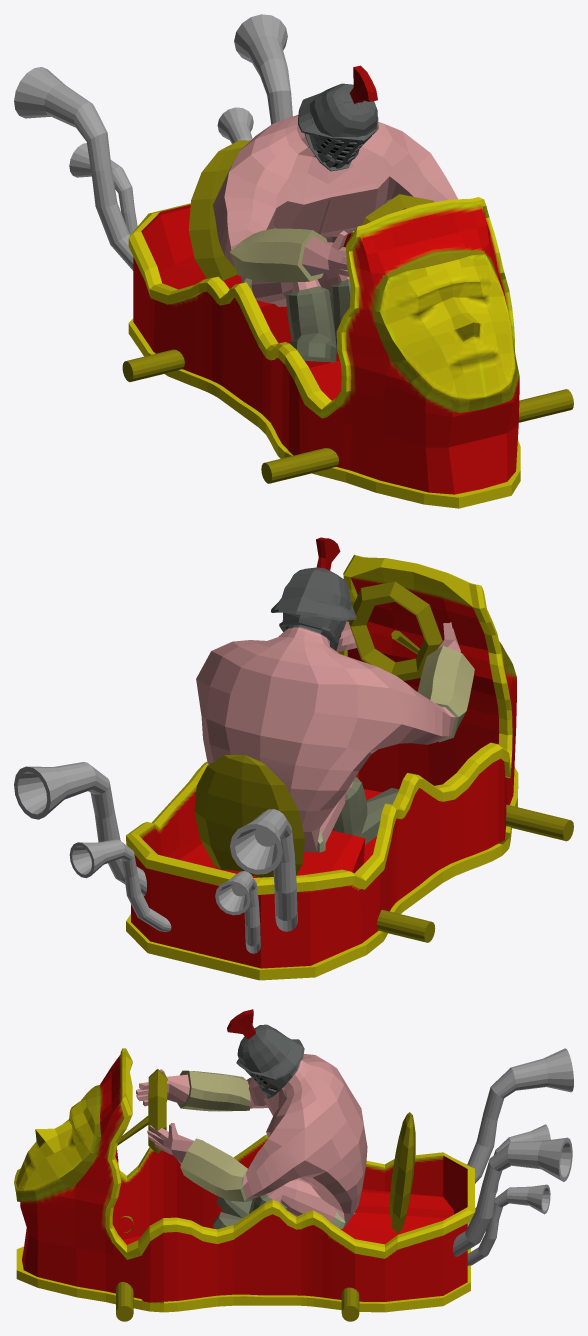
File: gladiVacile_000506.obj
3 views of the same model, one above another, from view 1: azimuth 30°, elevation 25°; view 2: azimuth 150°, elevation 25°; view 3: azimuth 270°, elevation 25° (orthographic). The views are drawn at different scales.
Visible parts, largest first — view 1: GladiChasis_GladiChasisH, Gadiador_Gladiador_H.001, GladiTubos_GladiTubosH, GladiVolante_GladiVolanteH; view 2: GladiChasis_GladiChasisH, Gadiador_Gladiador_H.001, GladiTubos_GladiTubosH, GladiVolante_GladiVolanteH; view 3: GladiChasis_GladiChasisH, Gadiador_Gladiador_H.001, GladiTubos_GladiTubosH, GladiVolante_GladiVolanteH.
Boxes of the visible parts, x1=… form: GladiChasis_GladiChasisH: x1=128, y1=197, x2=520, y2=508; Gadiador_Gladiador_H.001: x1=213, y1=65, x2=457, y2=362; GladiTubos_GladiTubosH: x1=14, y1=14, x2=292, y2=270; GladiVolante_GladiVolanteH: x1=122, y1=140, x2=573, y2=483; GladiChasis_GladiChasisH: x1=126, y1=554, x2=518, y2=980; Gadiador_Gladiador_H.001: x1=196, y1=537, x2=474, y2=852; GladiTubos_GladiTubosH: x1=14, y1=762, x2=297, y2=953; GladiVolante_GladiVolanteH: x1=194, y1=581, x2=573, y2=942; GladiChasis_GladiChasisH: x1=14, y1=1048, x2=474, y2=1312; Gadiador_Gladiador_H.001: x1=136, y1=1009, x2=367, y2=1229; GladiTubos_GladiTubosH: x1=453, y1=1048, x2=573, y2=1265; GladiVolante_GladiVolanteH: x1=116, y1=1069, x2=415, y2=1321.
Size of the model in its own units: 5.46 by 5.62 by 10.78.
